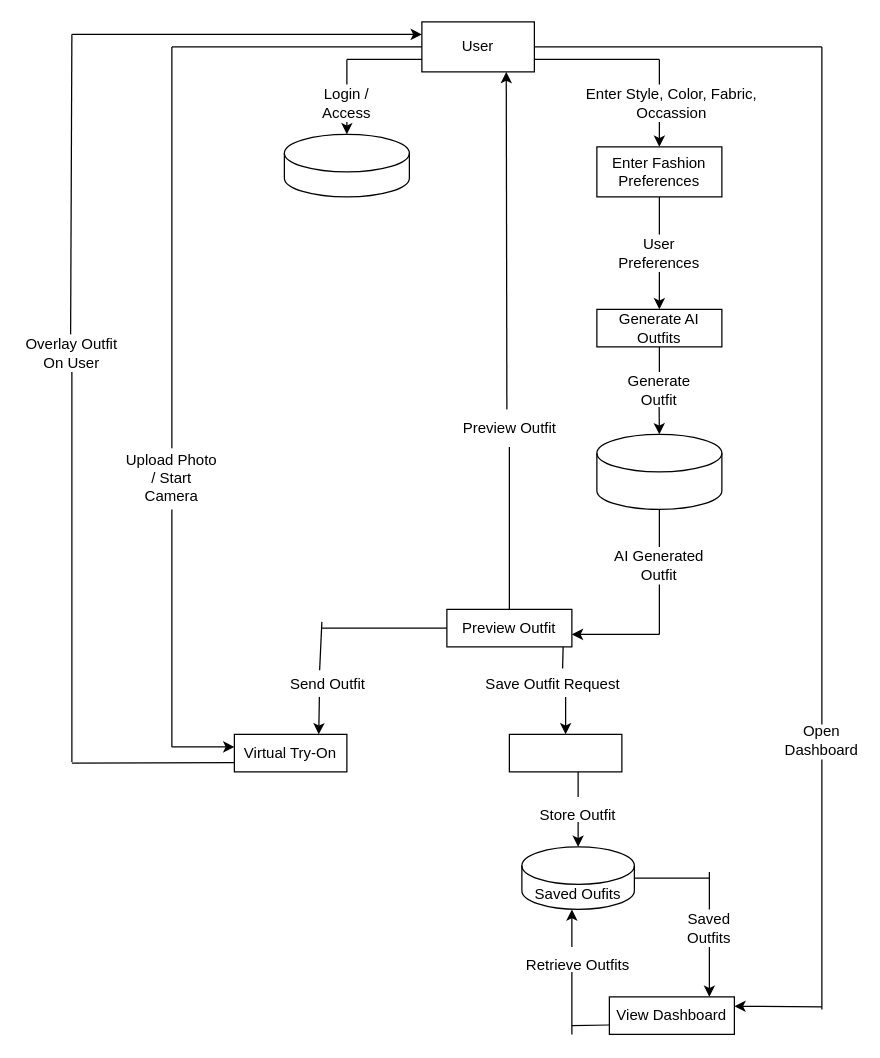
Image size: 880x1058. Some labels were removed from this diagram. The shapes that lost their labels are listed below. From the top down, each one's box as (x1, y1, x2, y2) in pixels, then its label:
(283, 133, 409, 197): User Database
(596, 433, 722, 509): Generated Outfit Data
(508, 733, 622, 772): Save Outfit
